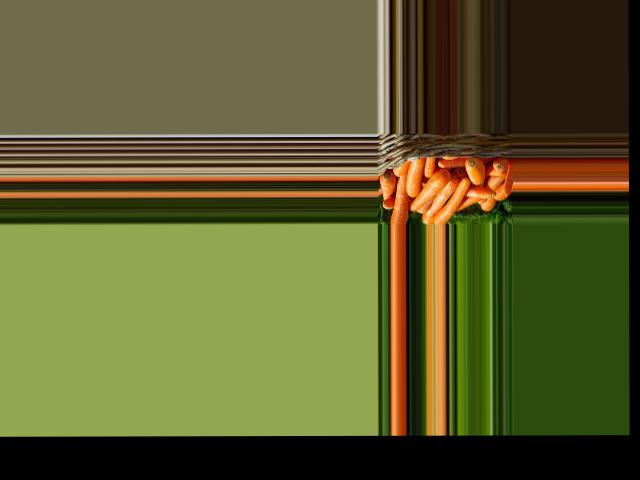carrot: (493, 156, 507, 172)
